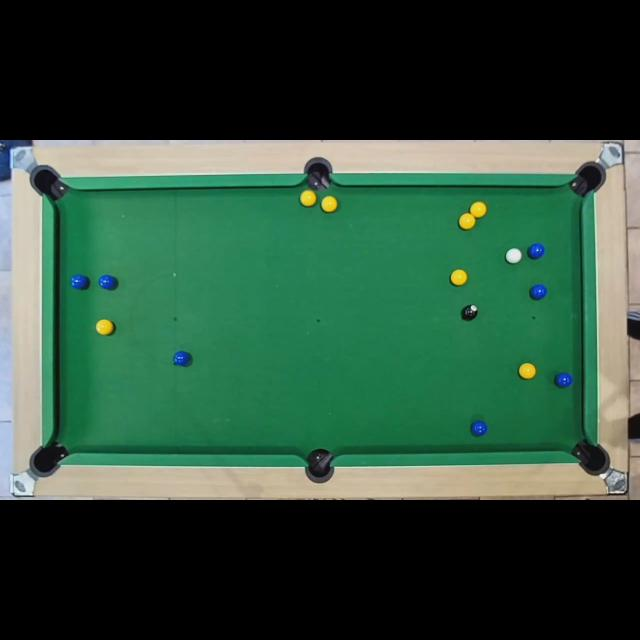Ball: (554, 372, 572, 388), (469, 202, 487, 218), (96, 319, 114, 335), (458, 214, 476, 230), (98, 274, 115, 290), (530, 284, 546, 300), (528, 243, 544, 259), (520, 363, 536, 379), (451, 269, 467, 285), (471, 421, 487, 437), (300, 191, 316, 207), (322, 196, 338, 212), (507, 248, 523, 264), (173, 352, 191, 366), (462, 306, 478, 320), (72, 275, 86, 289)
